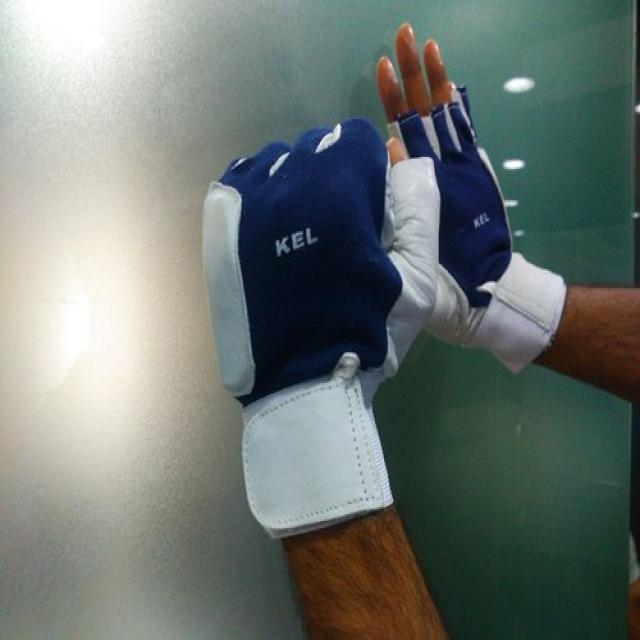gloves: (202, 111, 443, 538), (378, 84, 568, 371)
